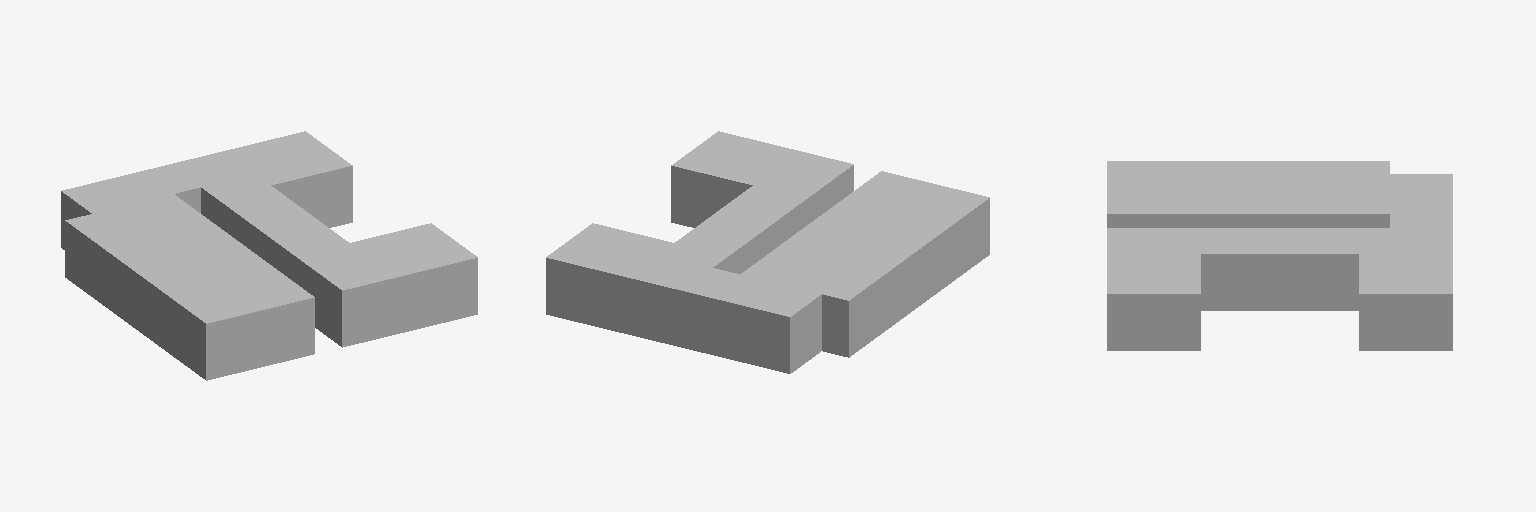
Rendered from level.obj.
3 renders of one model, left to right at view 1: azimuth 30°, elevation 25°; view 2: azimuth 150°, elevation 25°; view 3: azimuth 270°, elevation 25°, orthographic.
Parts seen in each view (by area): view 1: world_geometry; view 2: world_geometry; view 3: world_geometry.
Boxes of the visible parts, x1,y1,x2,y2 form: world_geometry: [61, 131, 477, 380]; world_geometry: [546, 131, 989, 373]; world_geometry: [1107, 161, 1452, 350].
Size of the model in its own units: 1219 by 244 by 1341.